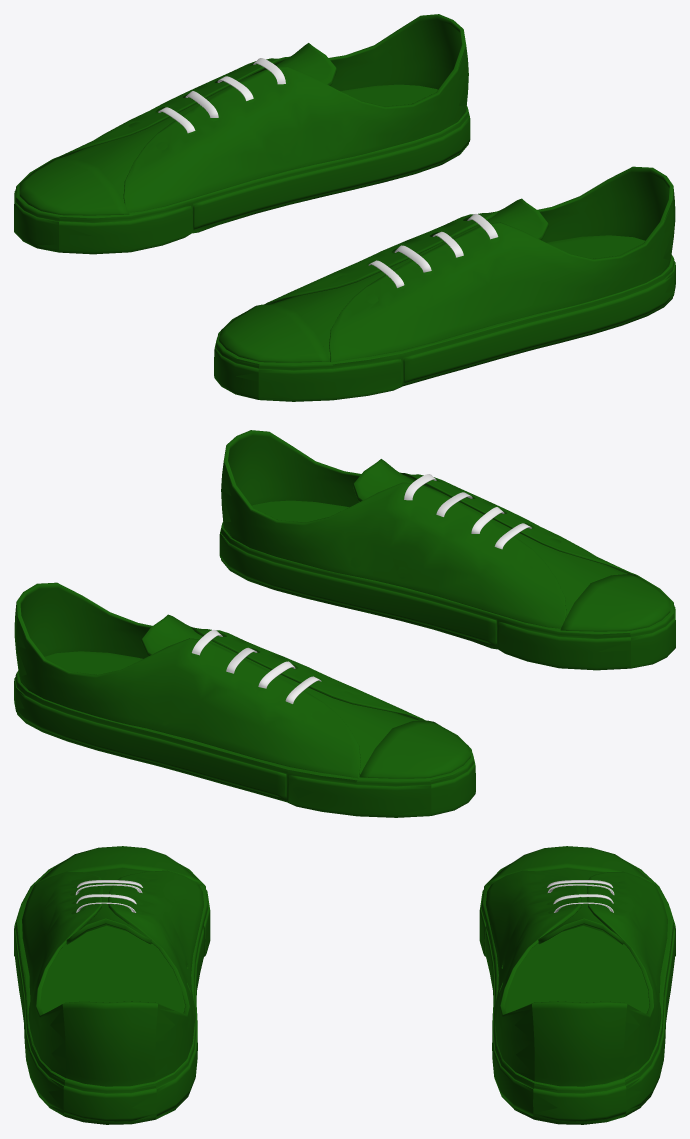
The model's file is green sneakers.fbx.
3 views of the same model, one above another, from view 1: azimuth 30°, elevation 25°; view 2: azimuth 150°, elevation 25°; view 3: azimuth 270°, elevation 25° (orthographic). The views are drawn at different scales.
Parts seen in each view (by area): view 1: Box02, pertla3, pertla4, pertla_1, pertla2; view 2: Box02, pertla3, pertla4, pertla_1, pertla2; view 3: Box02, pertla2, pertla4.
Part boxes in pixels (x1,y1,x2,y2): Box02: (14,14,675,401); pertla3: (185,91,431,272); pertla4: (158,107,404,287); pertla_1: (253,58,498,239); pertla2: (217,76,463,257); Box02: (14,430,675,817); pertla3: (258,507,504,688); pertla4: (285,523,531,703); pertla_1: (191,474,436,655); pertla2: (226,492,472,673); Box02: (14,846,675,1124); pertla2: (76,894,613,904); pertla4: (77,880,612,887).
Size of the model in its own units: 261 by 66.38 by 302.
